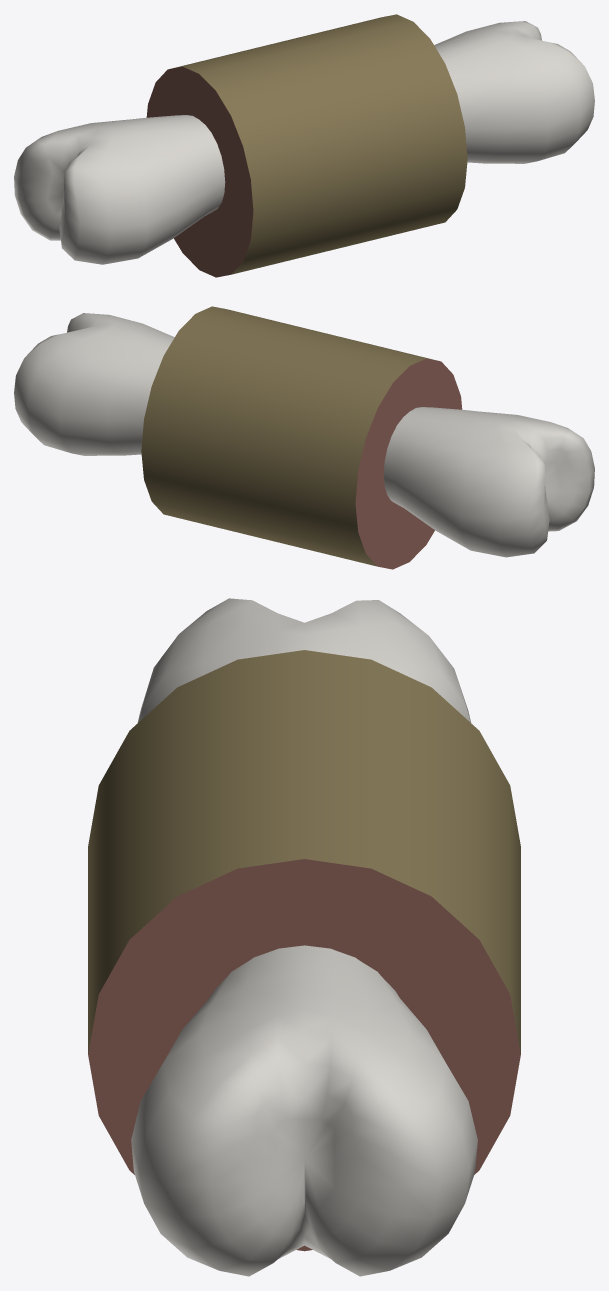
File: Spare Ribs.fbx
The picture shows the model from 3 angles, top to bottom: view 1: azimuth 30°, elevation 25°; view 2: azimuth 150°, elevation 25°; view 3: azimuth 270°, elevation 25°; orthographic projection. The views are drawn at different scales.
Visible parts, largest first — view 1: bone1; view 2: bone1; view 3: bone1.
Part boxes in pixels (box(x1,y1,x2,y2)): bone1: box(14, 14, 594, 277); bone1: box(14, 306, 594, 569); bone1: box(88, 598, 520, 1276).
Size of the model in its own units: 9.8 by 3.5 by 3.5.
